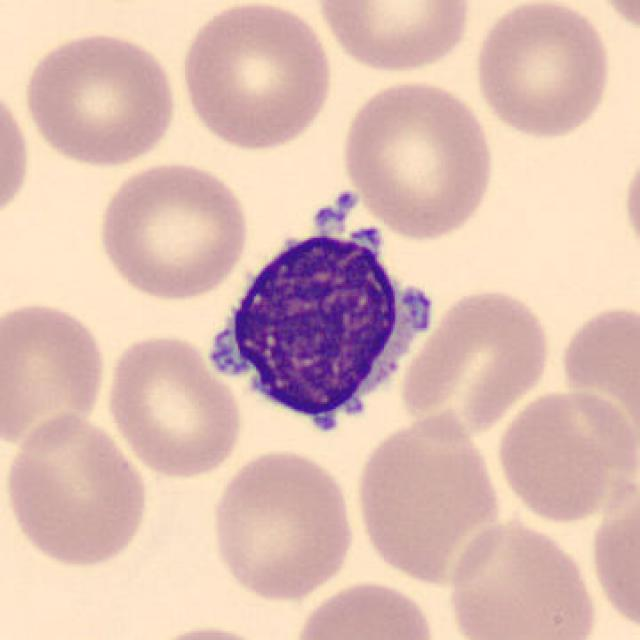Lymphocyte: (195, 205, 442, 450)
RBC: (336, 74, 500, 242), (350, 409, 505, 585), (398, 282, 556, 441), (176, 0, 338, 153), (0, 411, 153, 571), (206, 446, 359, 605), (93, 157, 255, 303), (20, 27, 182, 170), (103, 330, 245, 481), (469, 0, 615, 143), (442, 513, 602, 640), (493, 384, 631, 526), (0, 296, 110, 455), (554, 294, 640, 472), (313, 0, 476, 76), (290, 576, 441, 640), (585, 478, 638, 635), (0, 76, 34, 229), (133, 620, 284, 640), (618, 139, 640, 266), (588, 0, 640, 39)
